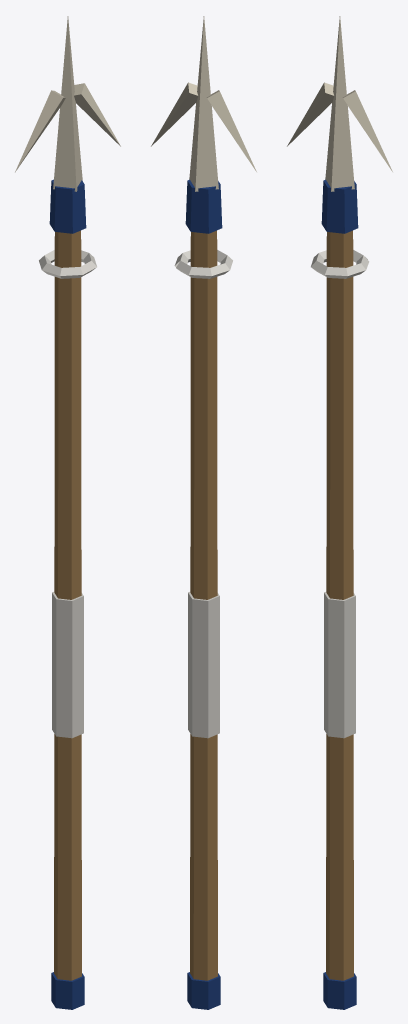
Rendered from weapon_naginata.glb.
3 renders of one model, left to right at view 1: azimuth 30°, elevation 25°; view 2: azimuth 150°, elevation 25°; view 3: azimuth 330°, elevation 25°, orthographic.
Parts seen in each view (by area): view 1: owl_weapon_naginata; view 2: owl_weapon_naginata; view 3: owl_weapon_naginata.
Part boxes in pixels (box(x1,y1,x2,y2)): owl_weapon_naginata: box(15, 16, 120, 1009); owl_weapon_naginata: box(151, 16, 256, 1009); owl_weapon_naginata: box(287, 16, 392, 1009).
Bounding box in the file's own units: 0.216 × 1.9 × 0.1056.
